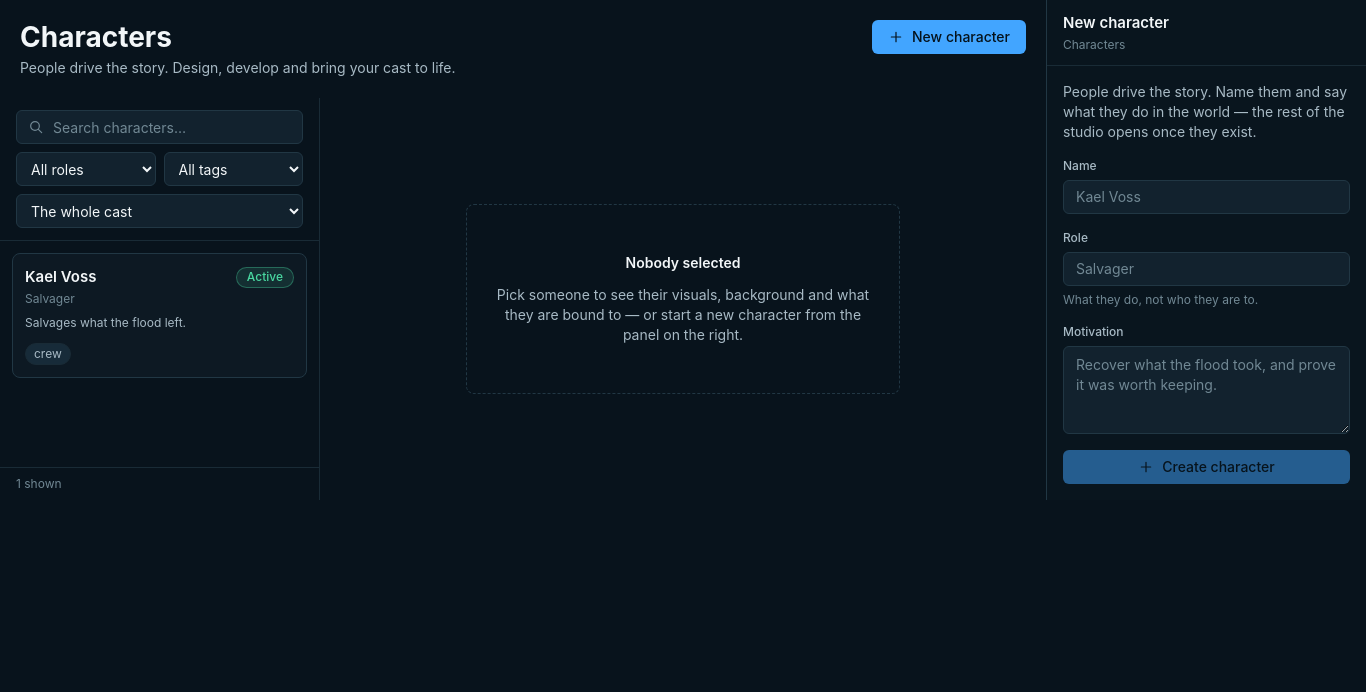
Test case: Characters workspace › opens the detail surface on the character that was picked
Click the heading "Kael Voss" at [61, 277], box x1=25 y1=266 x2=96 y2=288
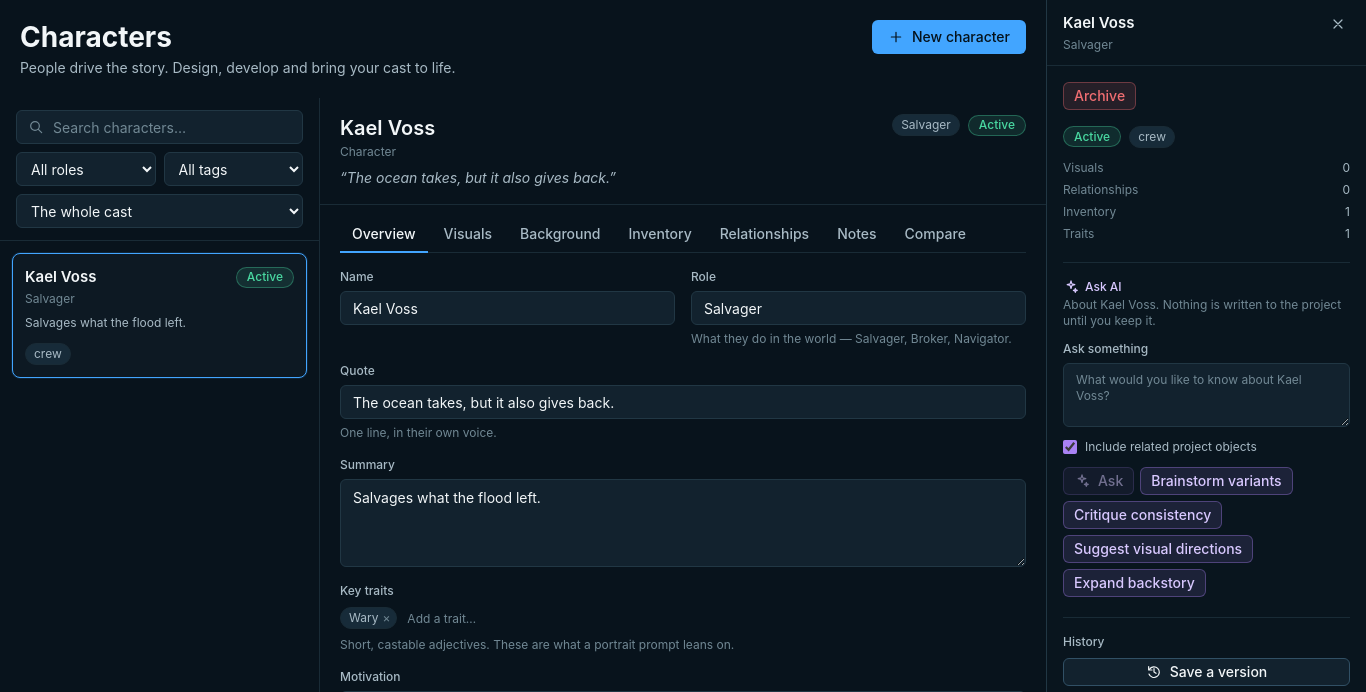
Now the field labelled "Name" holds "Kael Voss", box x1=340 y1=291 x2=675 y2=325
Now the field labelled "Role" holds "Salvager", box x1=691 y1=291 x2=1026 y2=325
